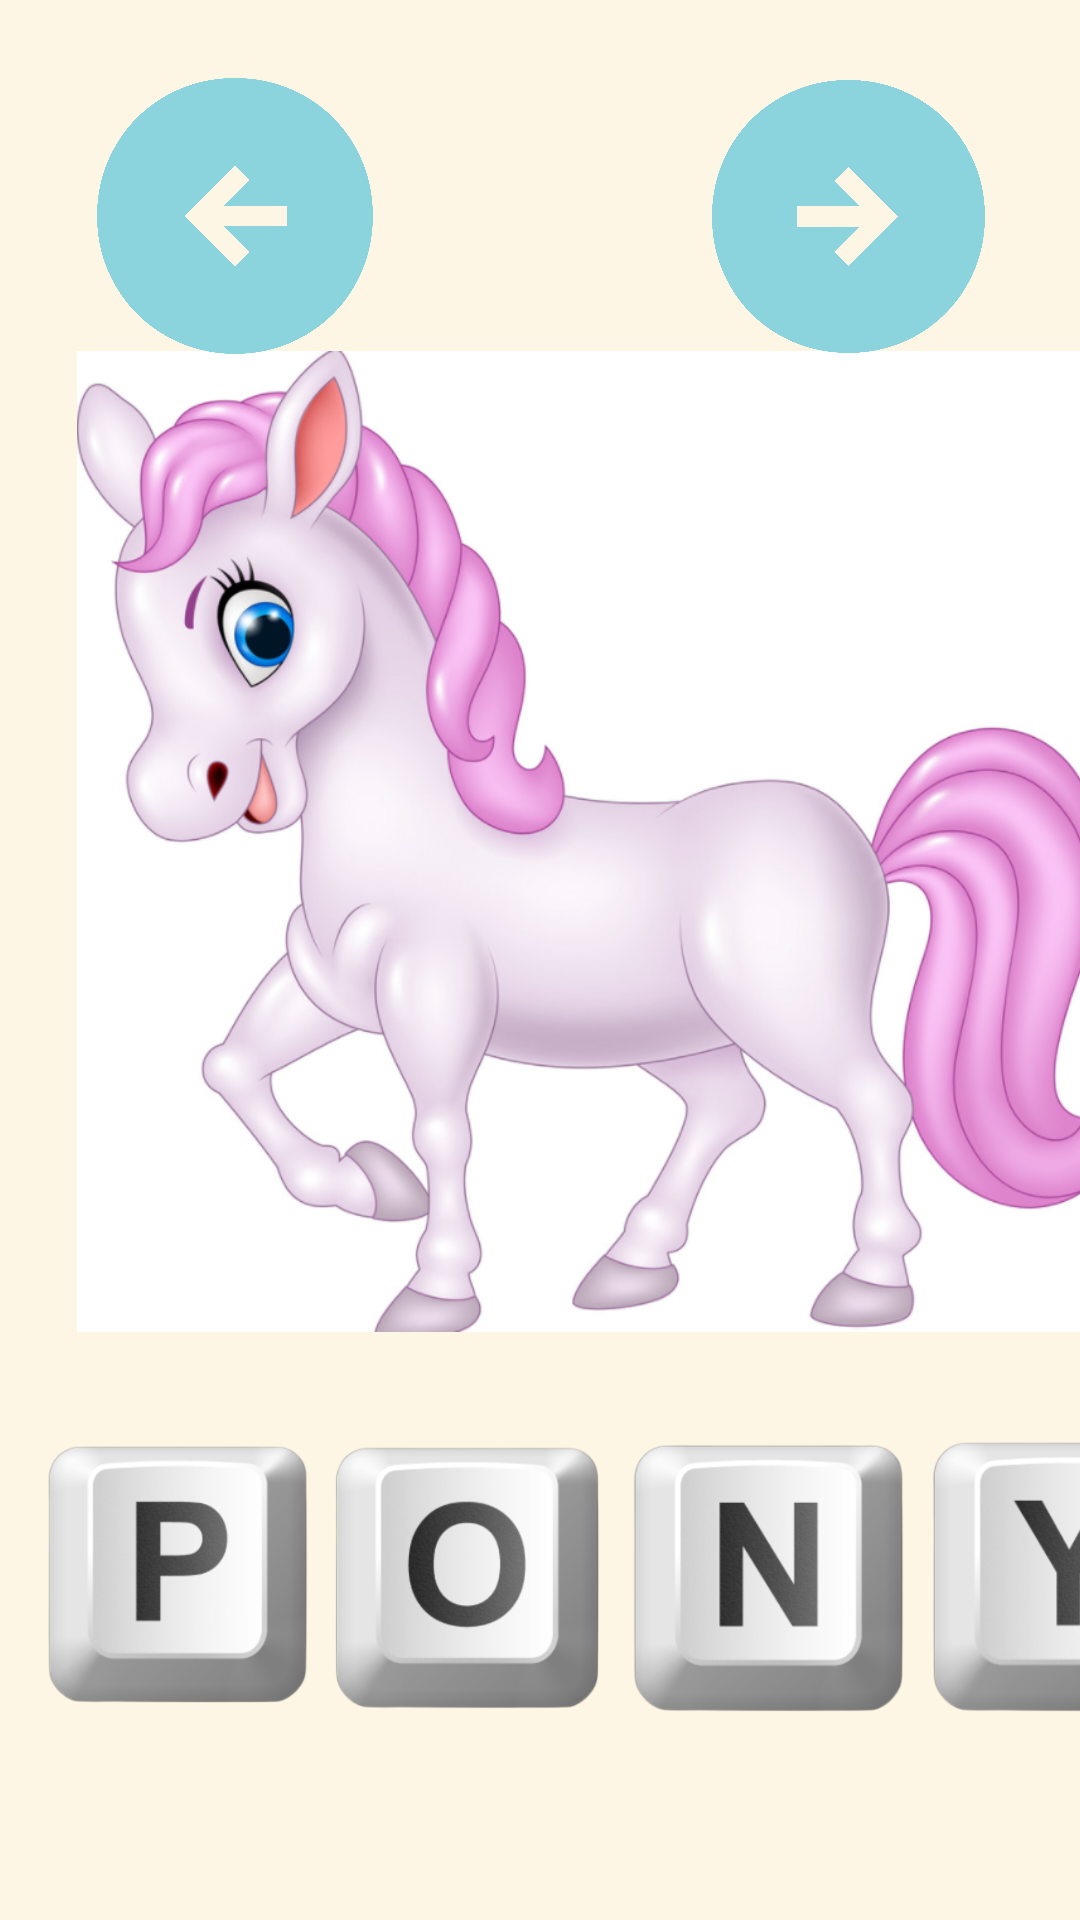

Screen size 1080×1920. Icon name, then its box in pixels as (x1, y1, x2, y2):
next: (700, 80, 997, 359)
